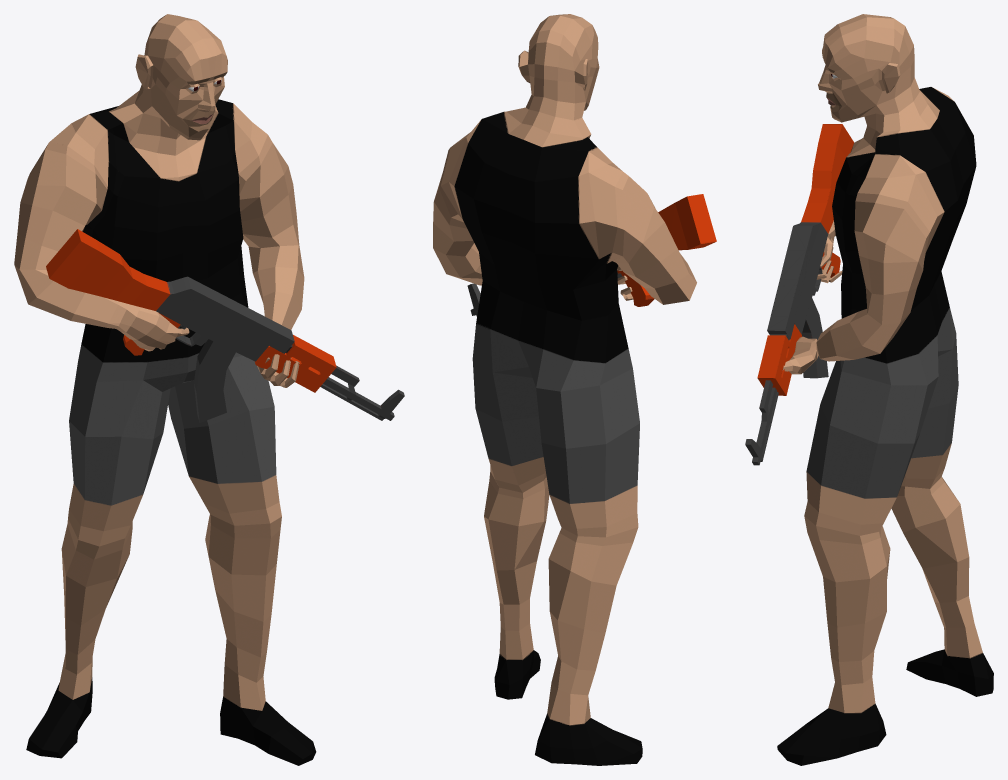
The model's file is PlayerIdle(183).obj.
The picture shows the model from 3 angles, left to right: view 1: azimuth 30°, elevation 25°; view 2: azimuth 150°, elevation 25°; view 3: azimuth 270°, elevation 25°; orthographic projection. The views are drawn at different scales.
Visible parts, largest first — view 1: Plane002, Object001; view 2: Plane002, Object001; view 3: Plane002, Object001.
Part boxes in pixels (x1,y1,x2,y2): Plane002: (14,14,316,765); Object001: (46,229,404,422); Plane002: (433,14,696,765); Object001: (467,194,716,316); Plane002: (777,14,993,765); Object001: (745,124,853,465).
Size of the model in its own units: 797 by 1802 by 577.
